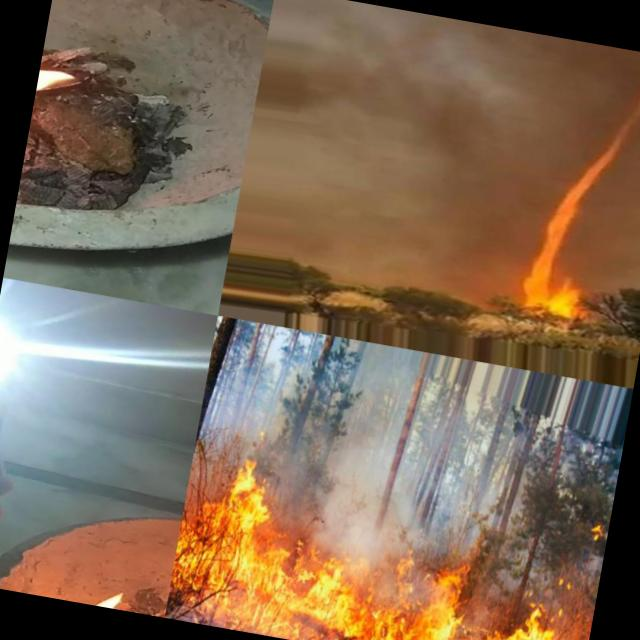fire: (164, 445, 610, 640), (62, 512, 180, 618), (21, 33, 91, 179), (516, 262, 596, 321), (550, 160, 598, 224), (531, 217, 579, 269), (591, 115, 634, 171), (621, 57, 640, 124)
smoke: (229, 0, 563, 299), (569, 165, 640, 290), (554, 39, 638, 120), (627, 56, 640, 285)
